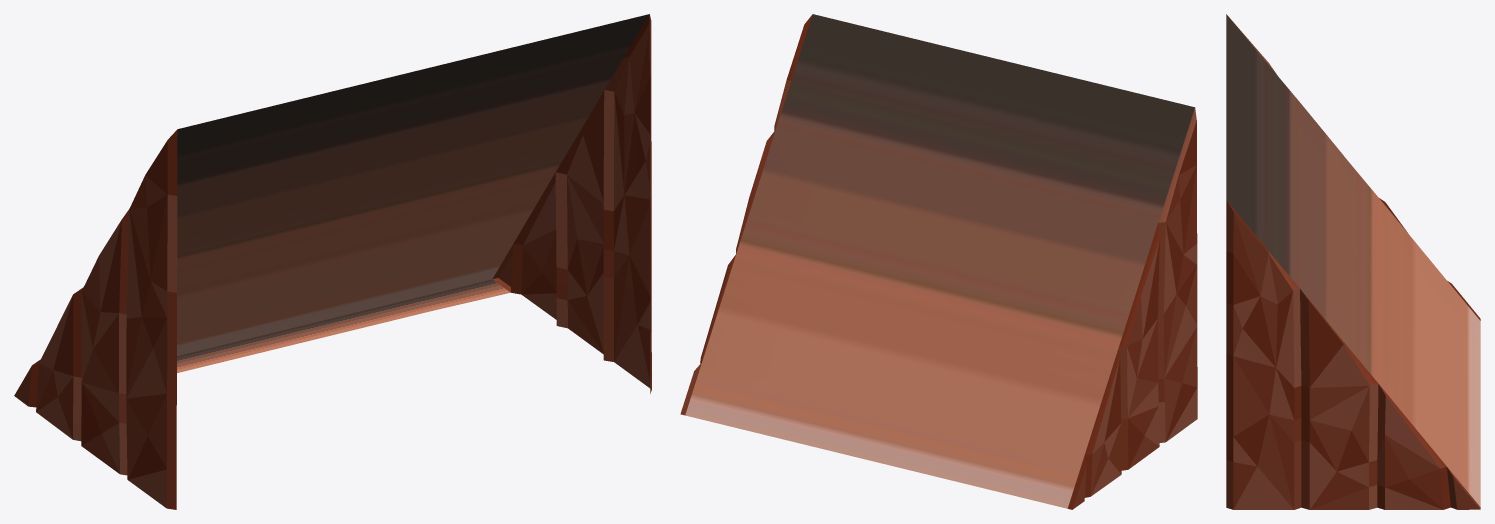
The model's file is Roof_Open_Ends.fbx.
3 renders of one model, left to right at view 1: azimuth 30°, elevation 25°; view 2: azimuth 150°, elevation 25°; view 3: azimuth 270°, elevation 25°, orthographic. The views are drawn at different scales.
Parts seen in each view (by area): view 1: polySurface4809; view 2: polySurface4809; view 3: polySurface4809.
Boxes of the visible parts, x1,y1,x2,y2 form: polySurface4809: (14,14,651,509); polySurface4809: (680,14,1197,509); polySurface4809: (1226,14,1480,509).
Bounding box in the file's own units: 401 × 300 × 225.
